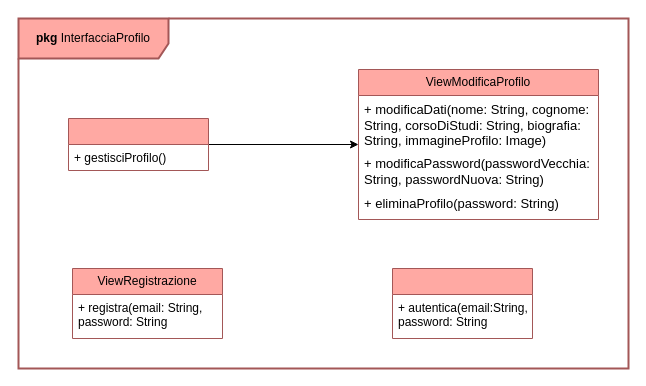
Image size: 646x386. Some labels were removed from this diagram. Here are the shapes that lost their labels. From the top down, the box of each, then its label:
(68, 118, 208, 170): ViewProfiloPersonale
(392, 268, 532, 338): ViewAutenticazione
